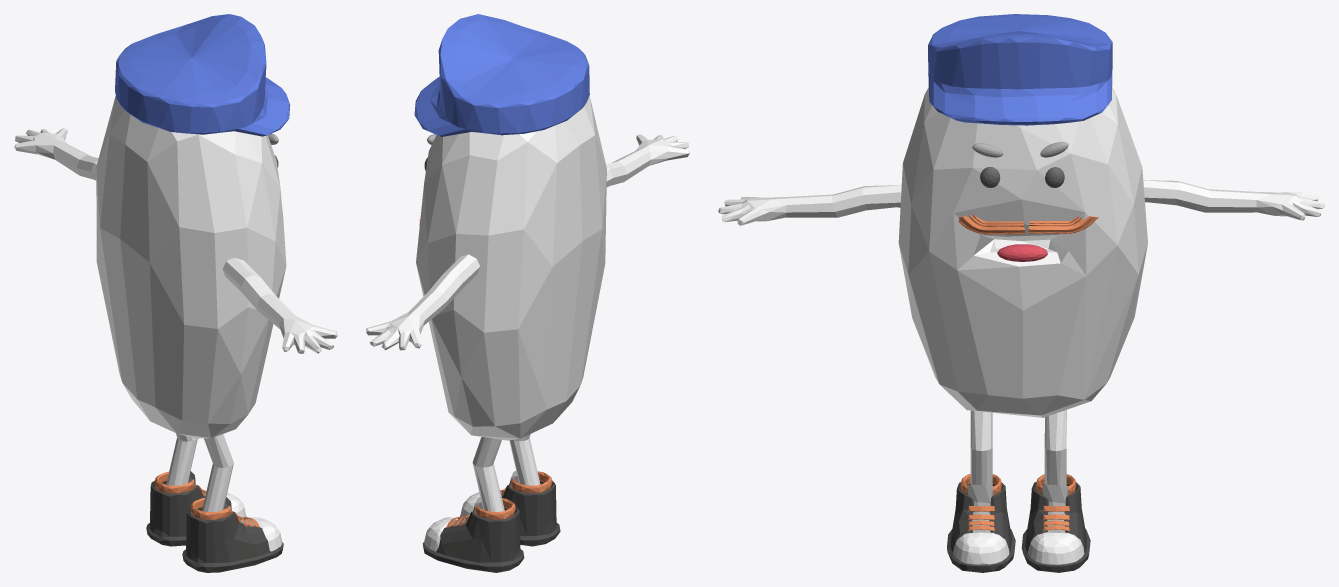
Rendered from Krvinka4BezPraku.fbx.
The picture shows the model from 3 angles, left to right: view 1: azimuth 30°, elevation 25°; view 2: azimuth 150°, elevation 25°; view 3: azimuth 270°, elevation 25°; orthographic projection. The views are drawn at different scales.
Parts seen in each view (by area): view 1: telo, ciapka, topanka_l, ruka_l, topanka_p, ruka_p, noha_l, noha_p, spicka_toanka_l, kozusina_topanka_p, kousina_topanka_l; view 2: telo, ciapka, topanka_p, ruka_p, topanka_l, ruka_l, noha_p, noha_l, spicka_topanka_p, kousina_topanka_l, kozusina_topanka_p; view 3: telo, ciapka, ruka_l, ruka_p, topanka_l, topanka_p, noha_l, noha_p, spicka_topanka_p, spicka_toanka_l, fuzy_l, fuzy_p.
Part boxes in pixels (<box>): telo: <box>96,96,286,438</box>; ciapka: <box>115,14,290,136</box>; topanka_l: <box>182,507,283,572</box>; ruka_l: <box>222,257,337,353</box>; topanka_p: <box>146,480,246,546</box>; ruka_p: <box>14,128,98,180</box>; noha_l: <box>202,434,233,512</box>; noha_p: <box>166,433,197,485</box>; spicka_toanka_l: <box>248,517,282,551</box>; kozusina_topanka_p: <box>155,471,194,493</box>; kousina_topanka_l: <box>190,498,231,519</box>; telo: <box>416,96,606,440</box>; ciapka: <box>414,14,589,136</box>; topanka_p: <box>422,506,524,572</box>; ruka_p: <box>366,254,480,350</box>; topanka_l: <box>460,480,560,546</box>; ruka_l: <box>606,134,689,187</box>; noha_p: <box>472,437,504,512</box>; noha_l: <box>509,434,540,485</box>; spicka_topanka_p: <box>424,517,457,551</box>; kousina_topanka_l: <box>511,471,552,493</box>; kozusina_topanka_p: <box>475,498,515,519</box>; telo: <box>898,87,1147,417</box>; ciapka: <box>928,14,1112,125</box>; ruka_l: <box>718,185,901,225</box>; ruka_p: <box>1143,180,1324,220</box>; topanka_l: <box>947,482,1015,572</box>; topanka_p: <box>1021,482,1090,572</box>; noha_l: <box>970,410,992,485</box>; noha_p: <box>1044,410,1066,485</box>; spicka_topanka_p: <box>1028,532,1084,564</box>; spicka_toanka_l: <box>953,532,1009,564</box>; fuzy_l: <box>958,215,1024,234</box>; fuzy_p: <box>1028,216,1098,233</box>.
Size of the model in its own units: 147 by 45.03 by 143.
